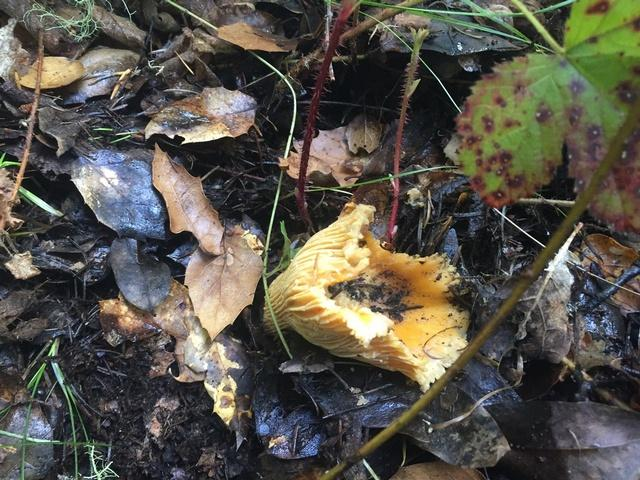Edible Mushroom: (261, 200, 473, 391)
